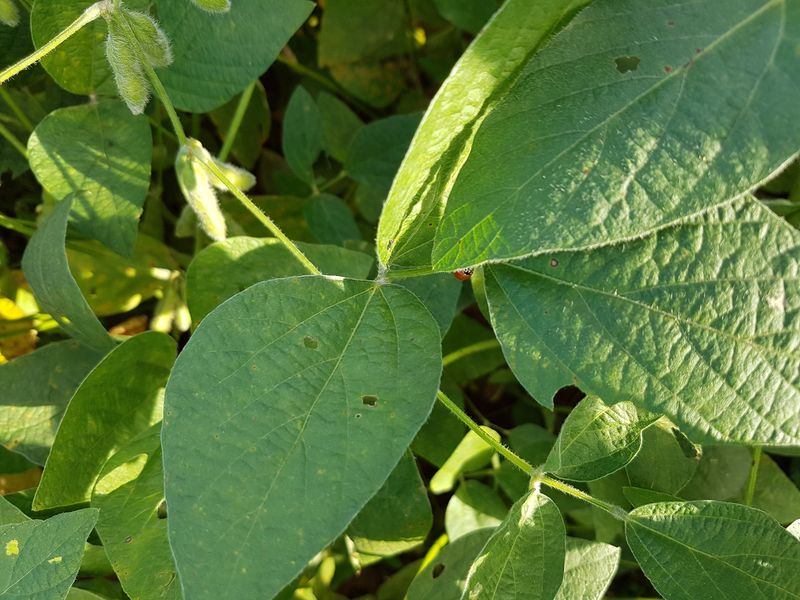Coccinellidae: (443, 258, 480, 288)
